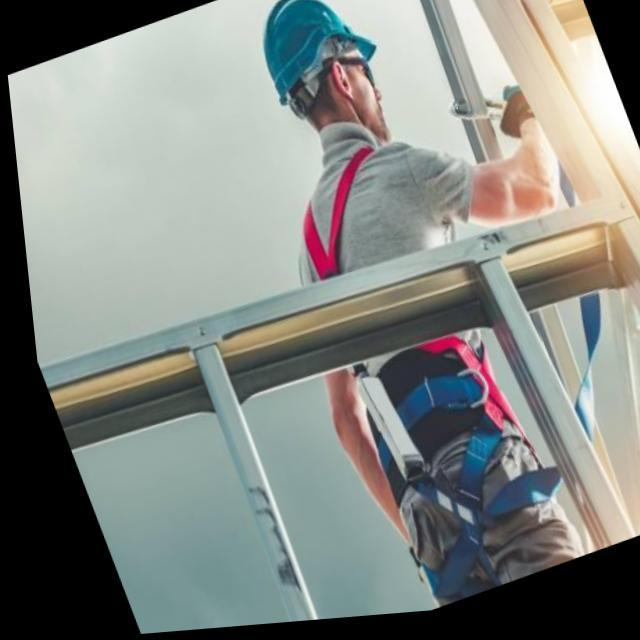belt: (260, 124, 572, 624)
